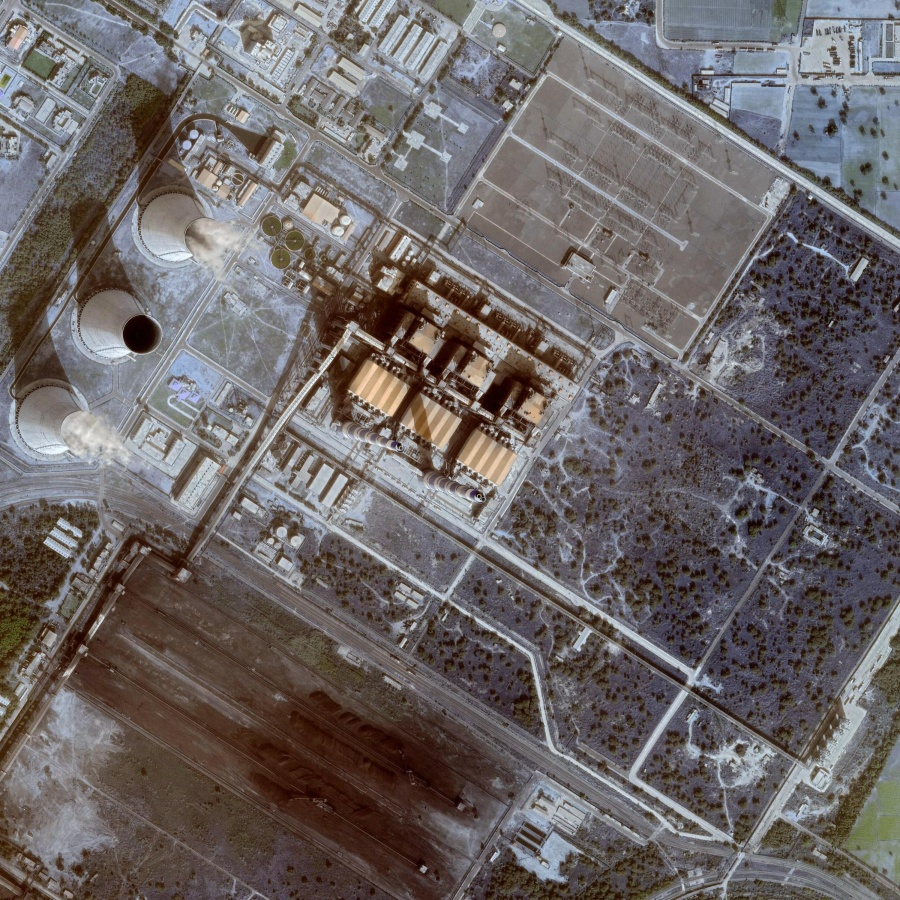PowerPlant: (3, 74, 553, 510)
